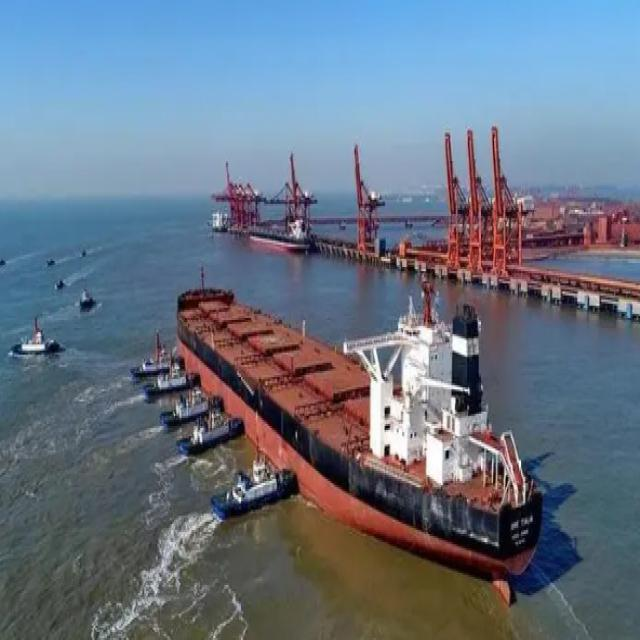cargoship: (171, 238, 557, 570)
fishing boat: (208, 441, 301, 521), (176, 387, 240, 456), (8, 305, 58, 365), (165, 376, 208, 428), (140, 353, 193, 392), (132, 334, 172, 372)
